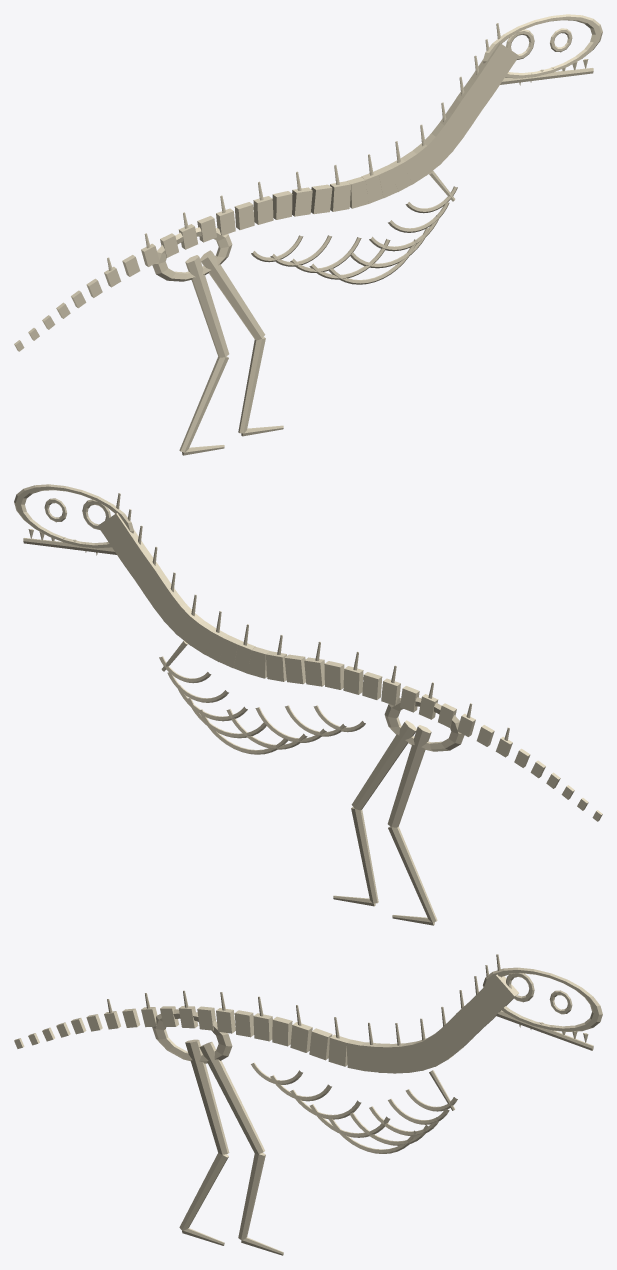
File: fossil.glb
The picture shows the model from 3 angles, top to bottom: view 1: azimuth 30°, elevation 25°; view 2: azimuth 150°, elevation 25°; view 3: azimuth 330°, elevation 25°; orthographic projection.
Bounding box in the file's own units: 6.46 × 3.76 × 0.09.
